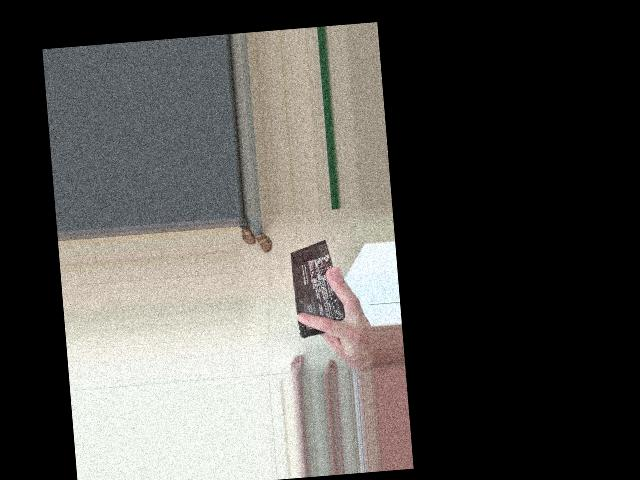chocolate: (287, 232, 355, 347)
